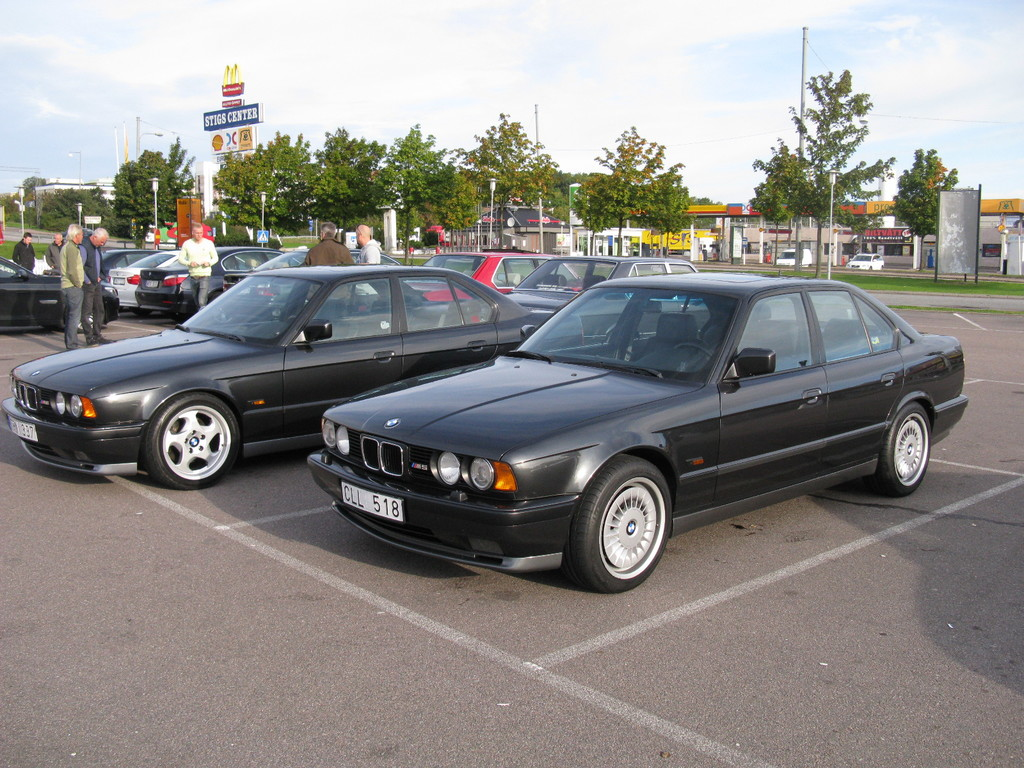Car: (303, 270, 959, 590), (0, 251, 554, 490), (404, 248, 593, 303), (145, 243, 269, 323), (0, 257, 119, 337)
